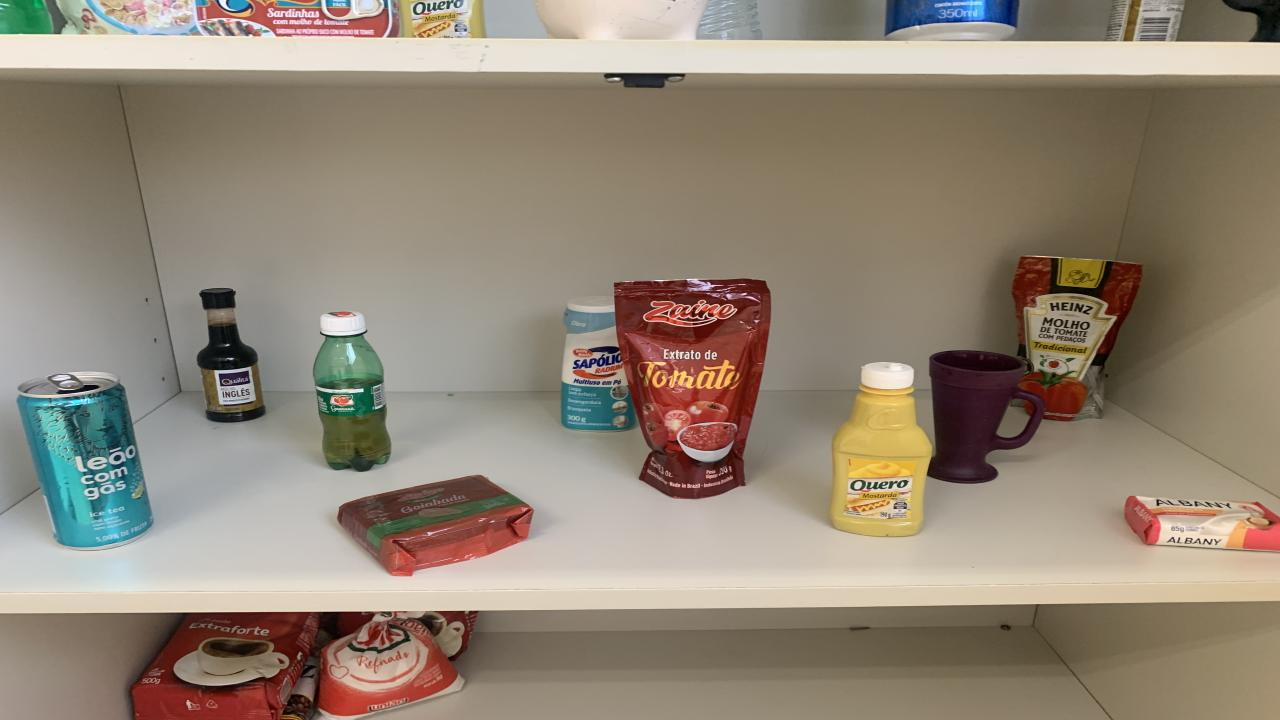Cleaner-Cleanup_Items: (560, 296, 635, 431)
English_Sauce-Pantry_Items: (198, 289, 265, 422), (1105, 0, 1185, 41)
Flakes-Snacks: (58, 0, 198, 36)
Guarana-Drinks: (312, 311, 390, 471)
Guava-Snacks: (338, 474, 532, 576)
Mustard-Pantry_Items: (830, 362, 932, 536), (400, 0, 485, 38)
Pig_Safe-Miscellaneous: (535, 0, 708, 39)
Soap-Cleanup_Items: (1125, 495, 1280, 551)
Tea-Drinks: (18, 371, 152, 549)
Tomato_Sauce-Pantry_Items: (615, 279, 770, 499), (1012, 255, 1142, 420)
Tonic-Drinks: (885, 0, 1018, 41)
Tuna_Can-Pantry_Items: (195, 0, 398, 38)
Water_Bottle-Drinks: (698, 0, 762, 39)
